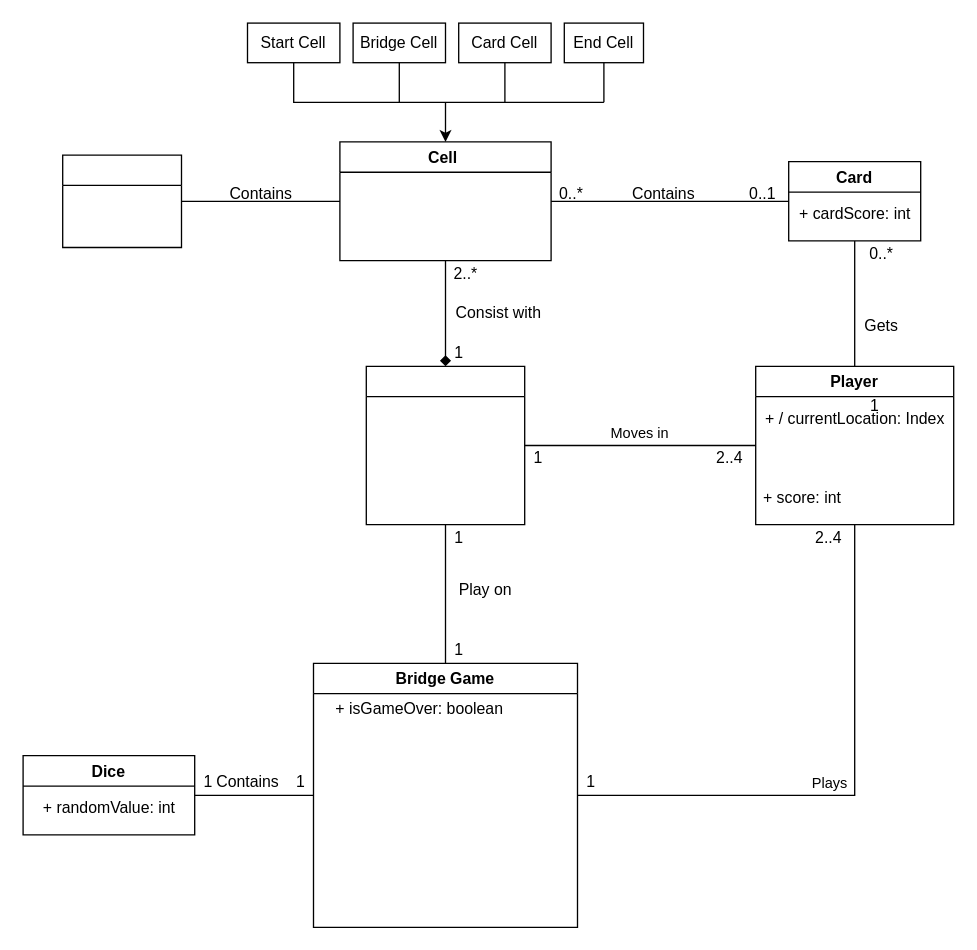
Image size: 977x950. Some labels were removed from this diagram. The shapes that lost their labels are listed below. From the top down, each one's centre as x and y in pixels, then its label:
the point at 121,201: Direction
the point at 445,445: Map
